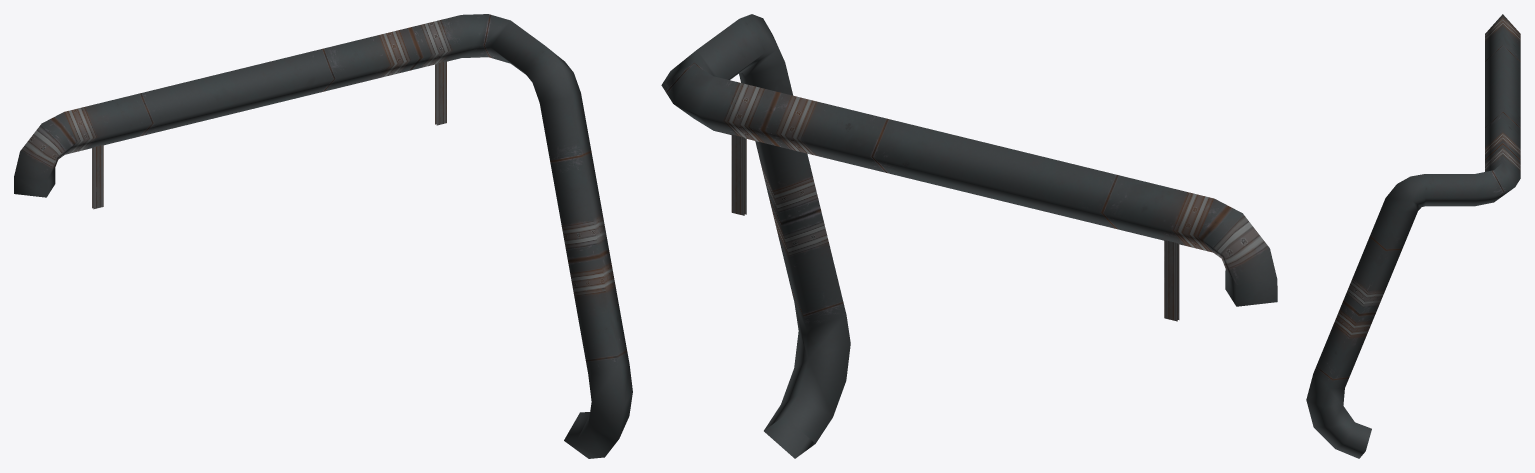
File: Wall3_Pipe2_L2.fbx
3 views of the same model, side by side, from view 1: azimuth 30°, elevation 25°; view 2: azimuth 150°, elevation 25°; view 3: azimuth 270°, elevation 25° (orthographic). The views are drawn at different scales.
Parts seen in each view (by area): view 1: Wall3_Pipe2_L2; view 2: Wall3_Pipe2_L2; view 3: Wall3_Pipe2_L2.
Part boxes in pixels (x1=…): Wall3_Pipe2_L2: x1=14, y1=14, x2=632, y2=458; Wall3_Pipe2_L2: x1=661, y1=14, x2=1277, y2=458; Wall3_Pipe2_L2: x1=1306, y1=14, x2=1520, y2=458.
Size of the model in its own units: 344 by 251 by 171.
